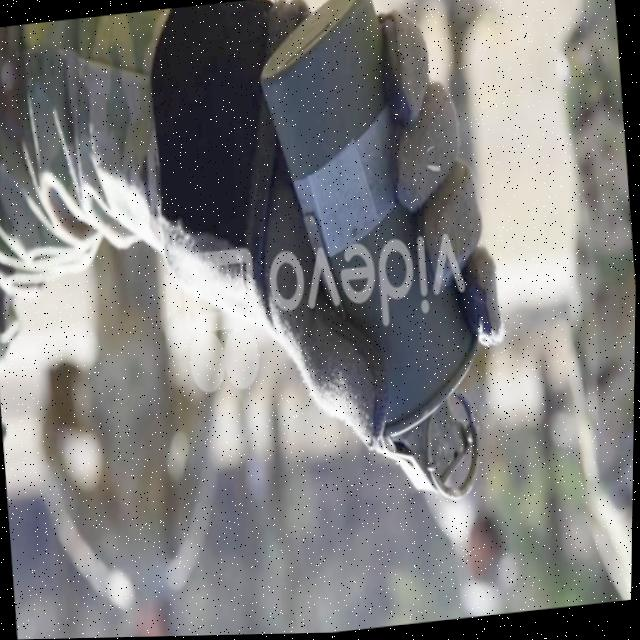grenade: (252, 0, 511, 522)
